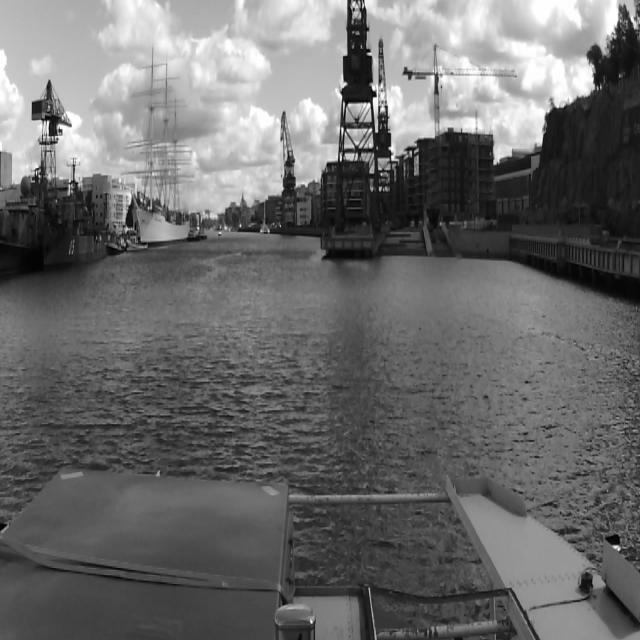ship: (140, 47, 190, 239), (47, 156, 105, 262), (108, 223, 126, 259), (257, 196, 270, 238)
